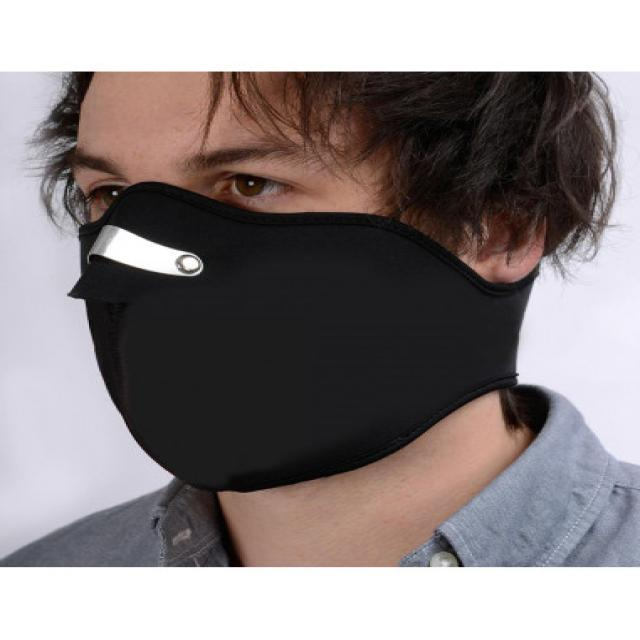mask: (70, 128, 476, 496)
